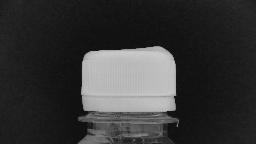Broken Cap: (79, 44, 177, 114)
